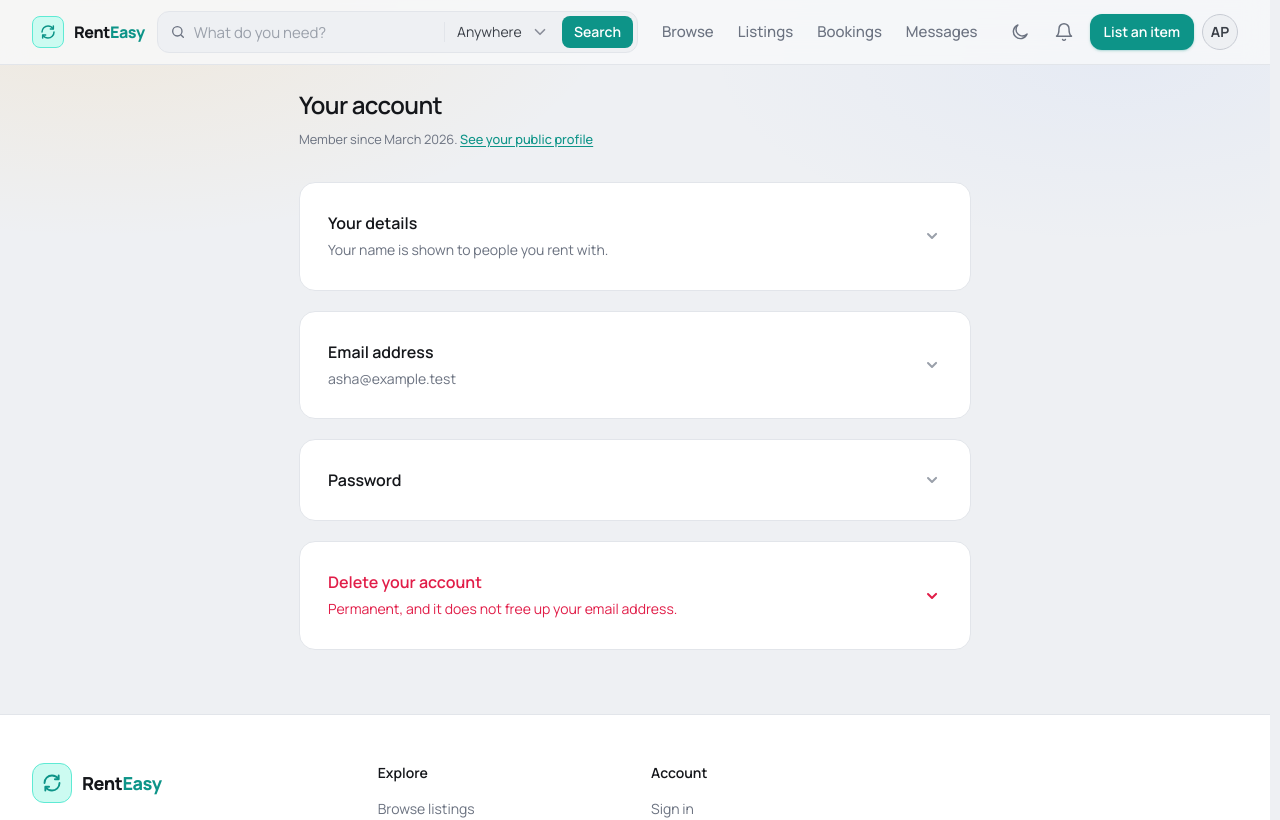
Test: ProfilePage — changing the email › NEVER says whether the new address already has an account
The width and height of the screenshot is (1280, 820).
Click the button "Email address asha@example.test": [381, 352] box [300,312,970,418]
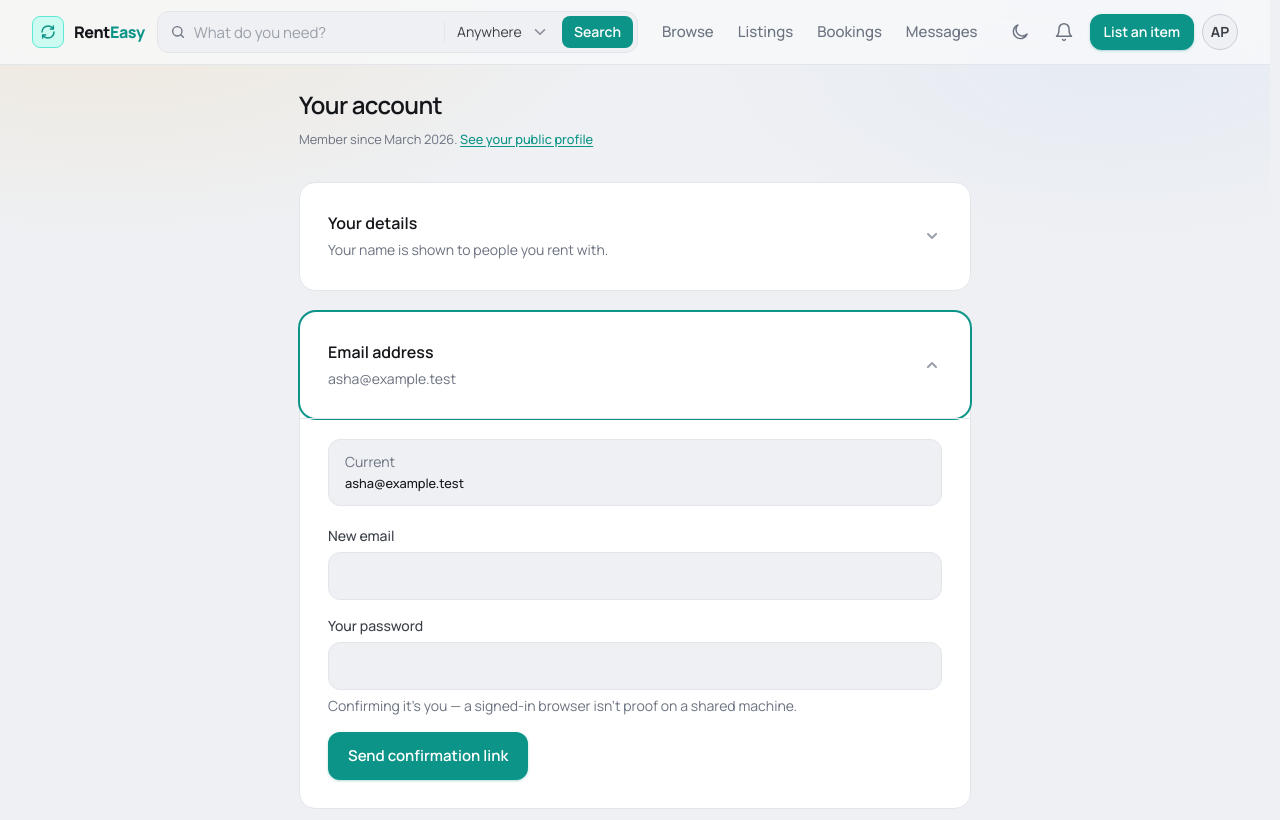
In the field labelled "New email": [635, 576] box [328,552,942,600], type "new@example.test"
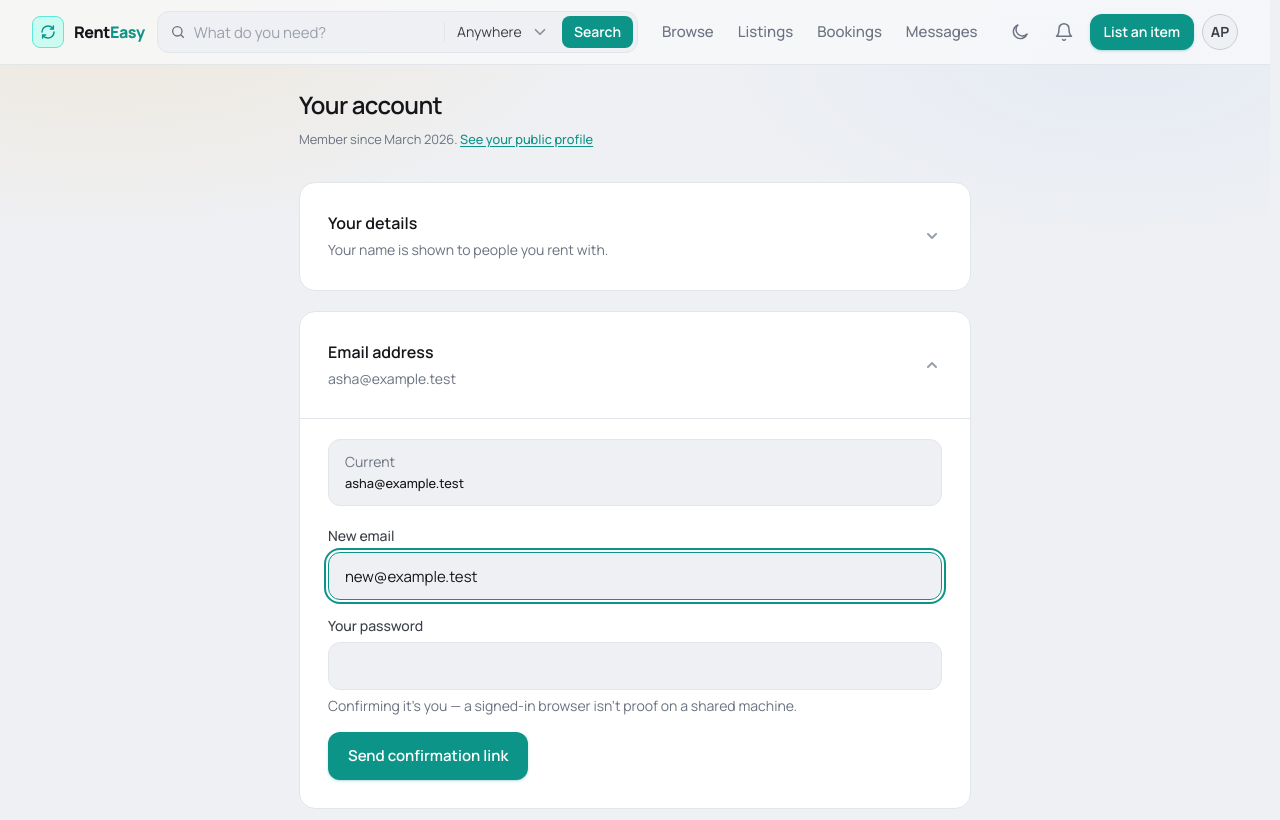
In the password field labelled "Your password": [635, 666] box [328,642,942,690], type "a-good-password"
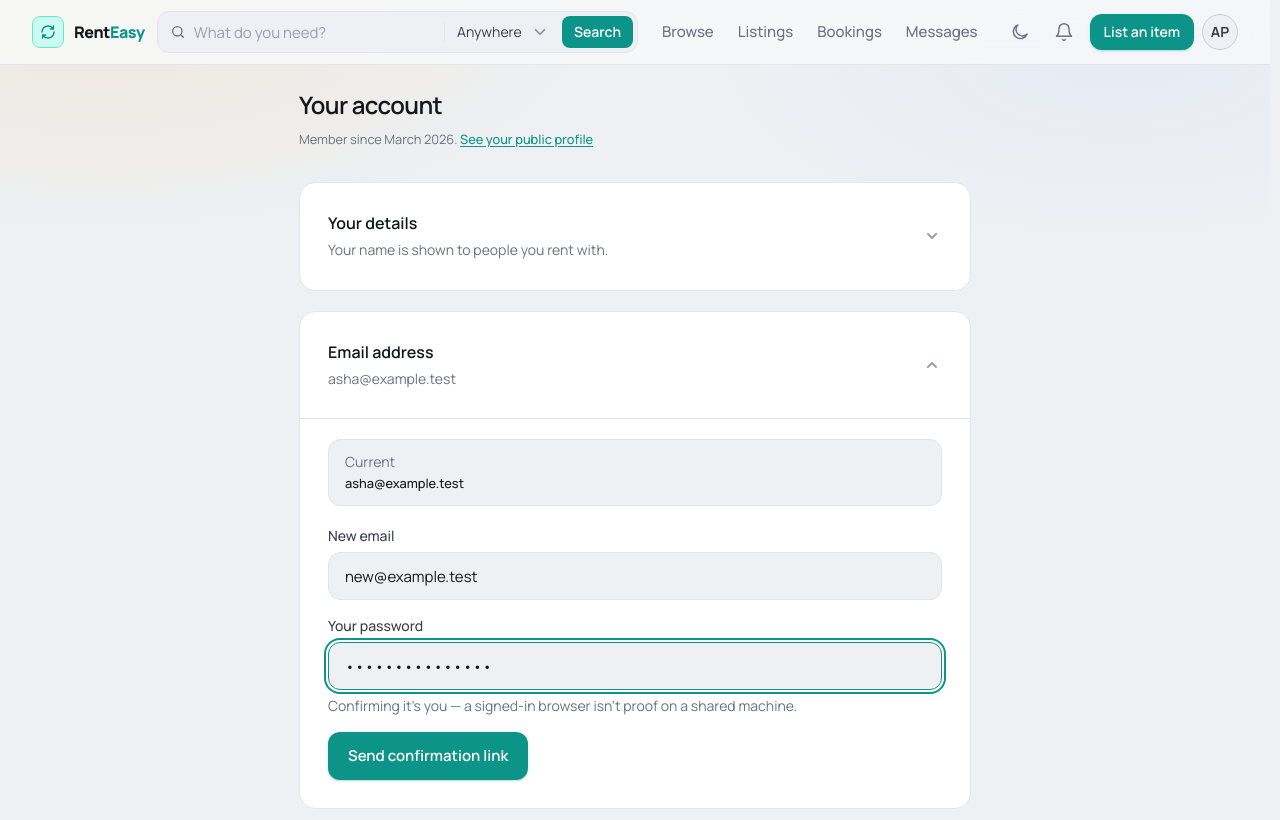
Click the button "Send confirmation link": [428, 756] box [328,732,528,780]
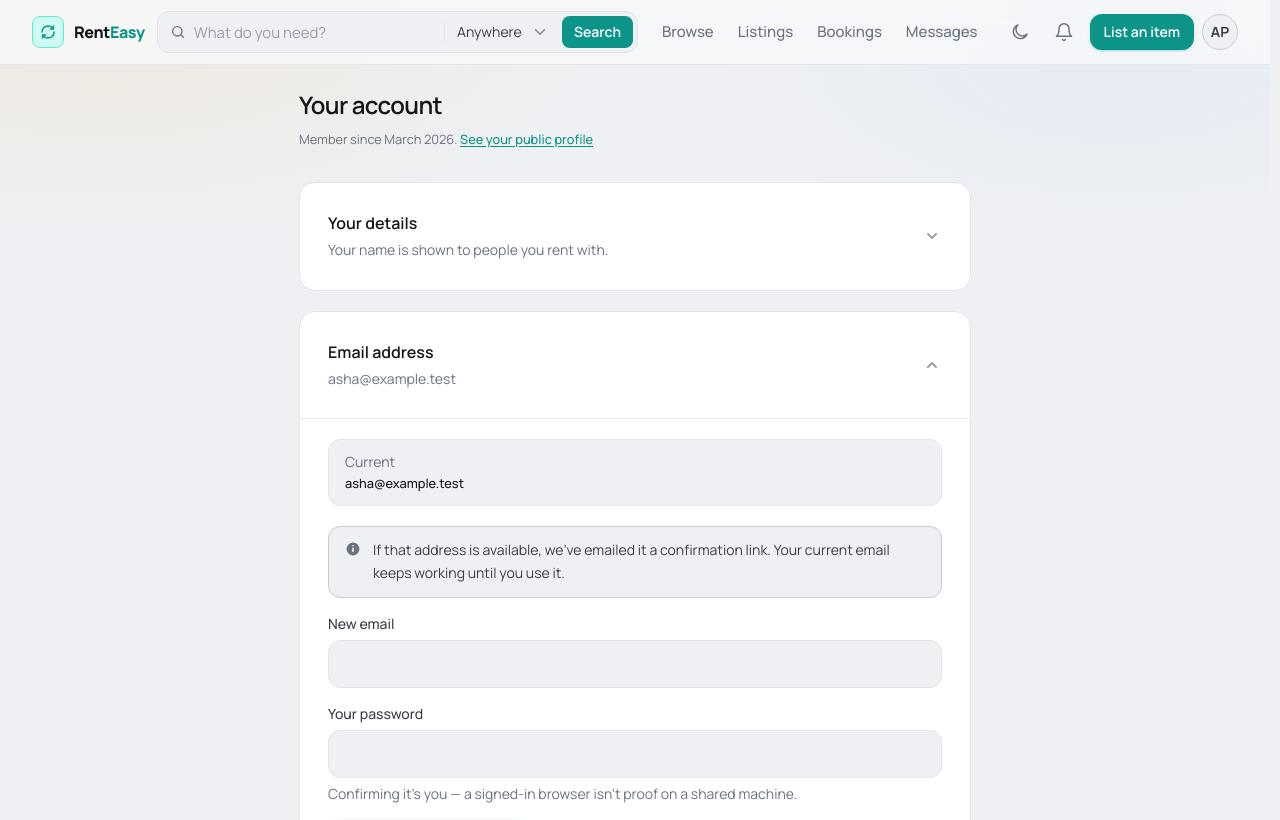
Expected: the text "If that address is available" is shown, [373,540,890,582]
